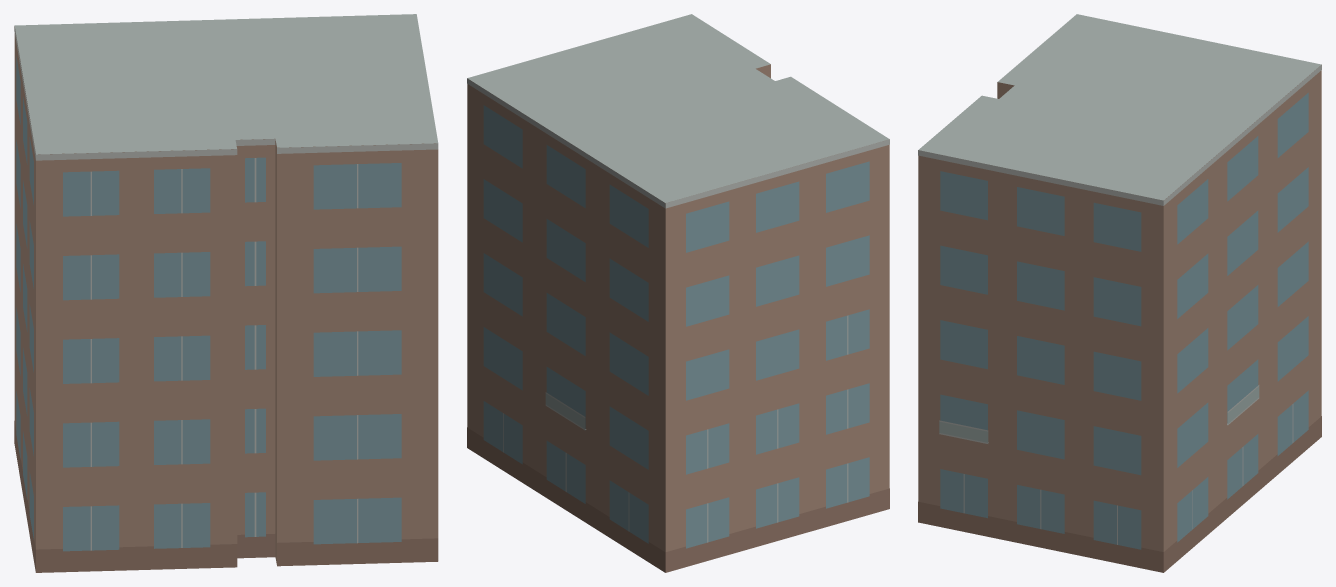
The model's file is survey-upis-32891843.glb.
3 renders of one model, left to right at view 1: azimuth 30°, elevation 25°; view 2: azimuth 150°, elevation 25°; view 3: azimuth 270°, elevation 25°, orthographic. The views are drawn at different scales.
Parts seen in each view (by area): view 1: survey-upis-32891843.tmp; view 2: survey-upis-32891843.tmp; view 3: survey-upis-32891843.tmp.
Boxes of the visible parts, <box> form: survey-upis-32891843.tmp: <box>14,14,438,572</box>; survey-upis-32891843.tmp: <box>467,14,889,572</box>; survey-upis-32891843.tmp: <box>918,14,1321,572</box>.
Bounding box in the file's own units: 17.84 × 16.6 × 16.32.
